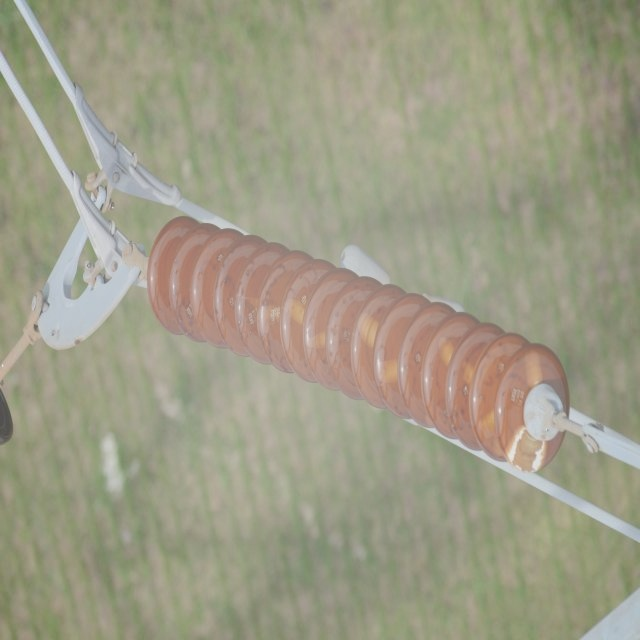insulator: (148, 214, 570, 473)
